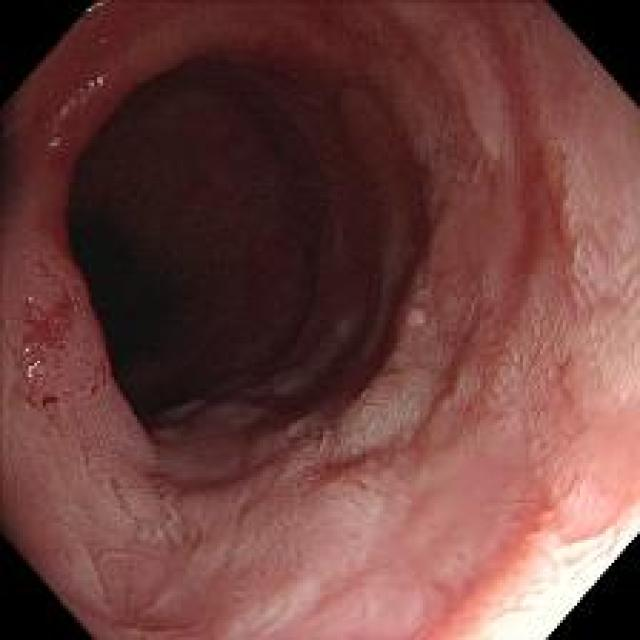color misalignment: (91, 68, 110, 99), (24, 358, 42, 378), (86, 0, 101, 15)
contrast: (66, 59, 356, 445)
saturation: (494, 552, 632, 634)
specularity: (15, 342, 46, 389), (76, 72, 105, 95), (26, 294, 36, 302)
